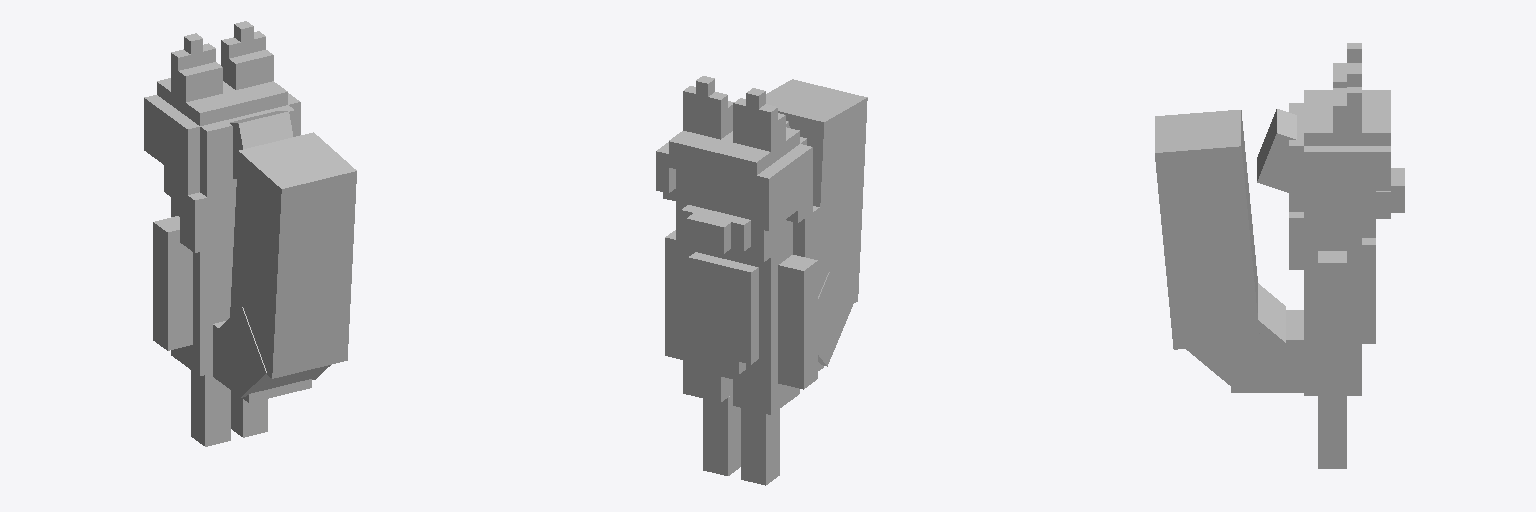
Rendered from averi.obj.
The picture shows the model from 3 angles: view 1: azimuth 30°, elevation 25°; view 2: azimuth 150°, elevation 25°; view 3: azimuth 270°, elevation 25°; orthographic projection.
Parts seen in each view (by area): view 1: tail, leg1, head.017, body, tail.002, head.023, leg4.001, cube.002, head.026, head.027, tail.001, leg4 (+8 smaller); view 2: tail, cube, leg1, body, head.017, head.007, leg4.001, leg4, leg0, tail.002, head.018, head.019 (+9 smaller); view 3: tail, leg0, body, tail.002, head.017, tail.001, head.023, cube.002, leg4, cube, head.029, leg2 (+8 smaller).
Part boxes in pixels (left/top/right/bottom): tail: left=230, top=132, right=356, bottom=378; leg1: left=153, top=216, right=192, bottom=350; head.017: left=164, top=105, right=294, bottom=223; body: left=171, top=198, right=233, bottom=349; tail.002: left=215, top=307, right=330, bottom=397; head.023: left=164, top=81, right=287, bottom=125; leg4.001: left=191, top=370, right=230, bottom=446; cube.002: left=230, top=111, right=292, bottom=178; head.026: left=229, top=50, right=273, bottom=89; head.027: left=178, top=62, right=222, bottom=102; tail.001: left=213, top=321, right=311, bottom=402; leg4: left=231, top=391, right=267, bottom=437; tail: left=766, top=79, right=867, bottom=302; cube: left=688, top=252, right=758, bottom=364; leg1: left=778, top=255, right=817, bottom=389; body: left=683, top=242, right=792, bottom=388; head.017: left=676, top=137, right=806, bottom=261; head.007: left=669, top=136, right=763, bottom=188; leg4.001: left=741, top=408, right=779, bottom=485; leg4: left=703, top=394, right=740, bottom=475; leg0: left=665, top=230, right=682, bottom=359; tail.002: left=818, top=272, right=853, bottom=366; head.018: left=683, top=86, right=727, bottom=139; head.019: left=733, top=98, right=777, bottom=151; tail: left=1155, top=110, right=1259, bottom=349; leg0: left=1318, top=251, right=1346, bottom=381; body: left=1304, top=238, right=1361, bottom=369; tail.002: left=1186, top=283, right=1285, bottom=390; head.017: left=1289, top=103, right=1375, bottom=237; tail.001: left=1231, top=310, right=1303, bottom=392; head.023: left=1304, top=90, right=1375, bottom=145; cube.002: left=1257, top=109, right=1296, bottom=192; leg4: left=1318, top=396, right=1346, bottom=468; cube: left=1362, top=238, right=1375, bottom=336; head.029: left=1304, top=146, right=1375, bottom=164; leg2: left=1304, top=370, right=1361, bottom=395.
Bounding box in the file's own units: 0.6881 × 1.88 × 1.08.